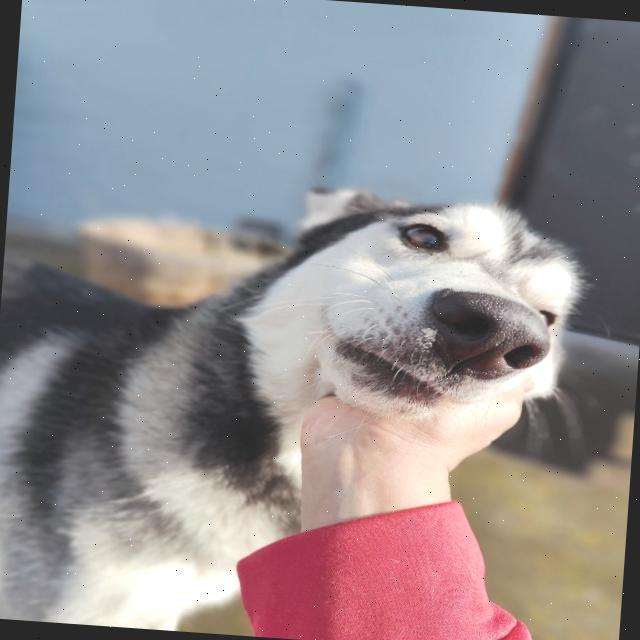siberian_husky_dog: (250, 166, 614, 444)
